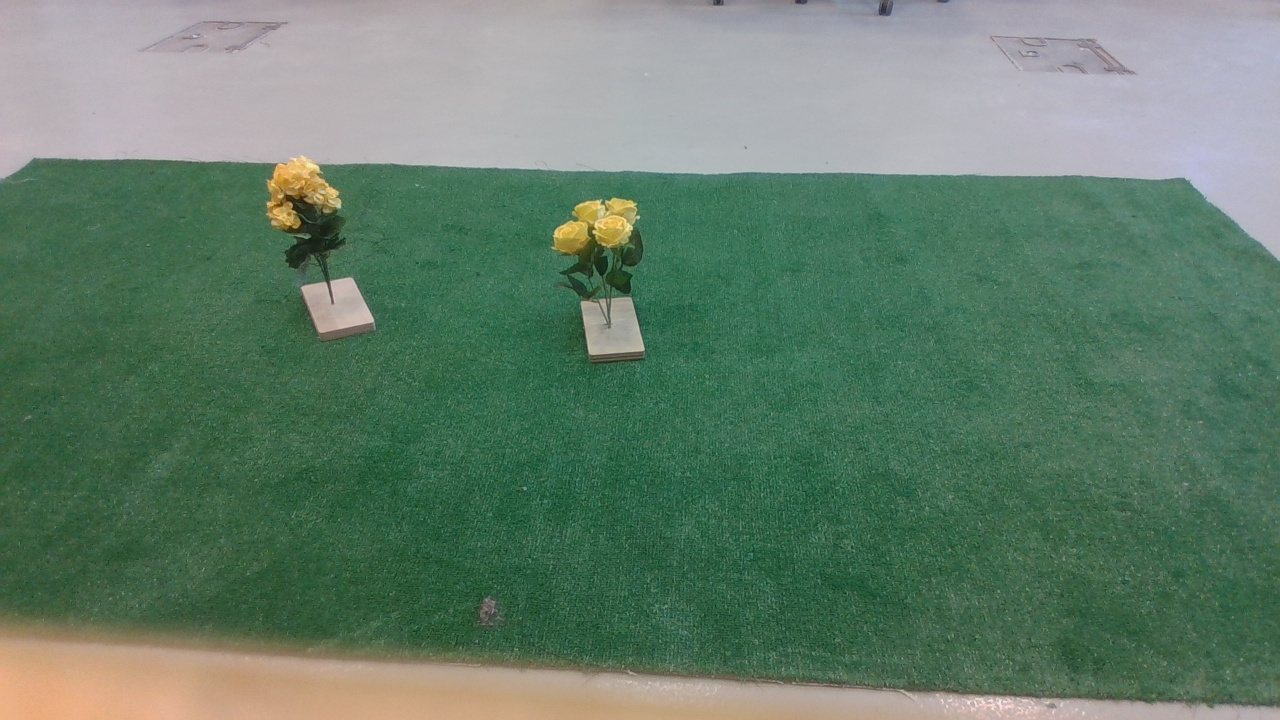geranium: (259, 153, 381, 283)
rose: (553, 191, 656, 308)
